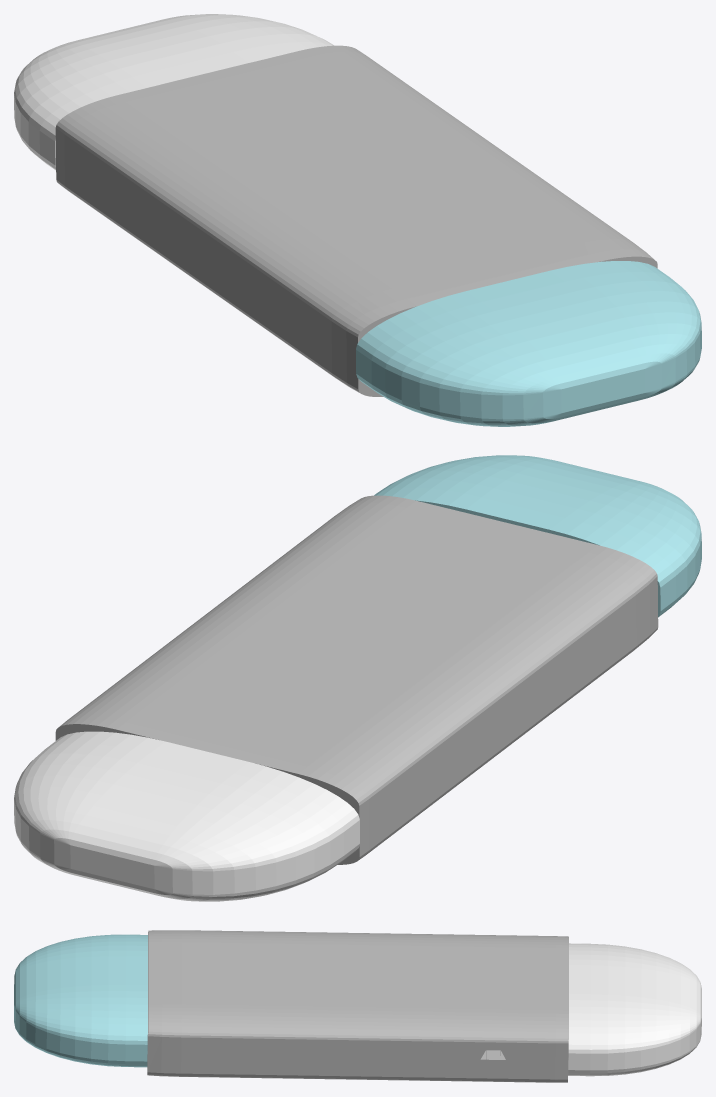
Rendered from tinker.obj.
The picture shows the model from 3 angles, top to bottom: view 1: azimuth 30°, elevation 25°; view 2: azimuth 150°, elevation 25°; view 3: azimuth 270°, elevation 25°; orthographic projection. The views are drawn at different scales.
Parts seen in each view (by area): view 1: group_0_12632256, group_0_-1028593425, group_0_16448250; view 2: group_0_12632256, group_0_16448250, group_0_-1028593425; view 3: group_0_12632256, group_0_-1028593425, group_0_16448250.
Boxes of the visible parts, bbox=[...] form: group_0_12632256: bbox=[55, 45, 657, 396]; group_0_-1028593425: bbox=[356, 261, 701, 426]; group_0_16448250: bbox=[14, 14, 333, 170]; group_0_12632256: bbox=[55, 495, 658, 864]; group_0_16448250: bbox=[14, 731, 359, 901]; group_0_-1028593425: bbox=[374, 455, 701, 617]; group_0_12632256: bbox=[147, 930, 568, 1082]; group_0_-1028593425: bbox=[14, 934, 147, 1067]; group_0_16448250: bbox=[568, 943, 701, 1076].
Bounding box in the file's own units: 24 × 8.75 × 67.04.
